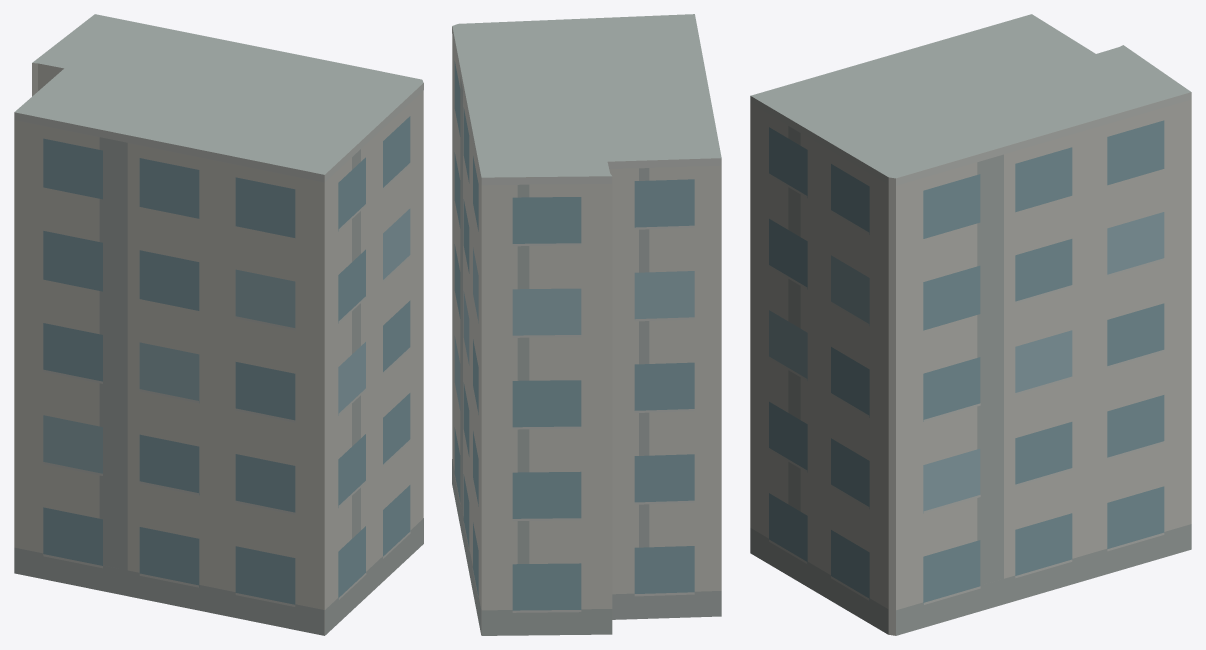
Rendered from survey-upis-32881695.glb.
3 views of the same model, side by side, from view 1: azimuth 30°, elevation 25°; view 2: azimuth 150°, elevation 25°; view 3: azimuth 270°, elevation 25° (orthographic).
Parts seen in each view (by area): view 1: survey-upis-32881695.tmp; view 2: survey-upis-32881695.tmp; view 3: survey-upis-32881695.tmp.
Boxes of the visible parts, x1=… form: survey-upis-32881695.tmp: x1=14, y1=14, x2=423, y2=635; survey-upis-32881695.tmp: x1=452, y1=14, x2=721, y2=635; survey-upis-32881695.tmp: x1=750, y1=14, x2=1191, y2=635.
Bounding box in the file's own units: 11.3 × 14.65 × 12.81.
